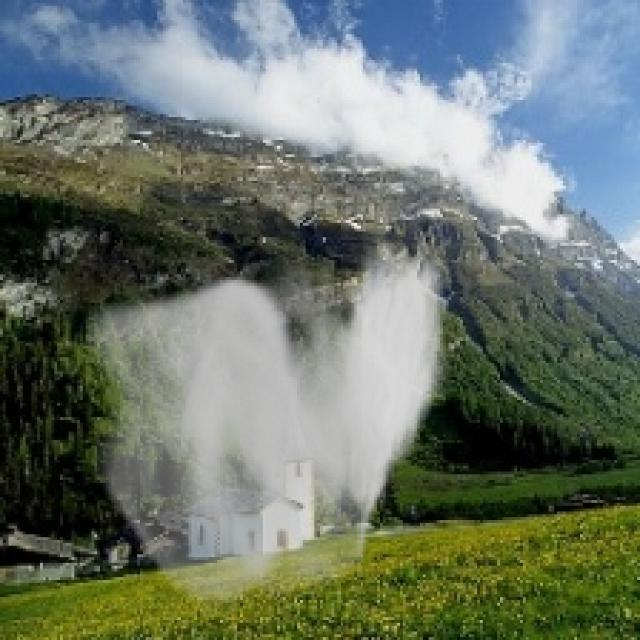Smoke: (86, 232, 452, 617)
